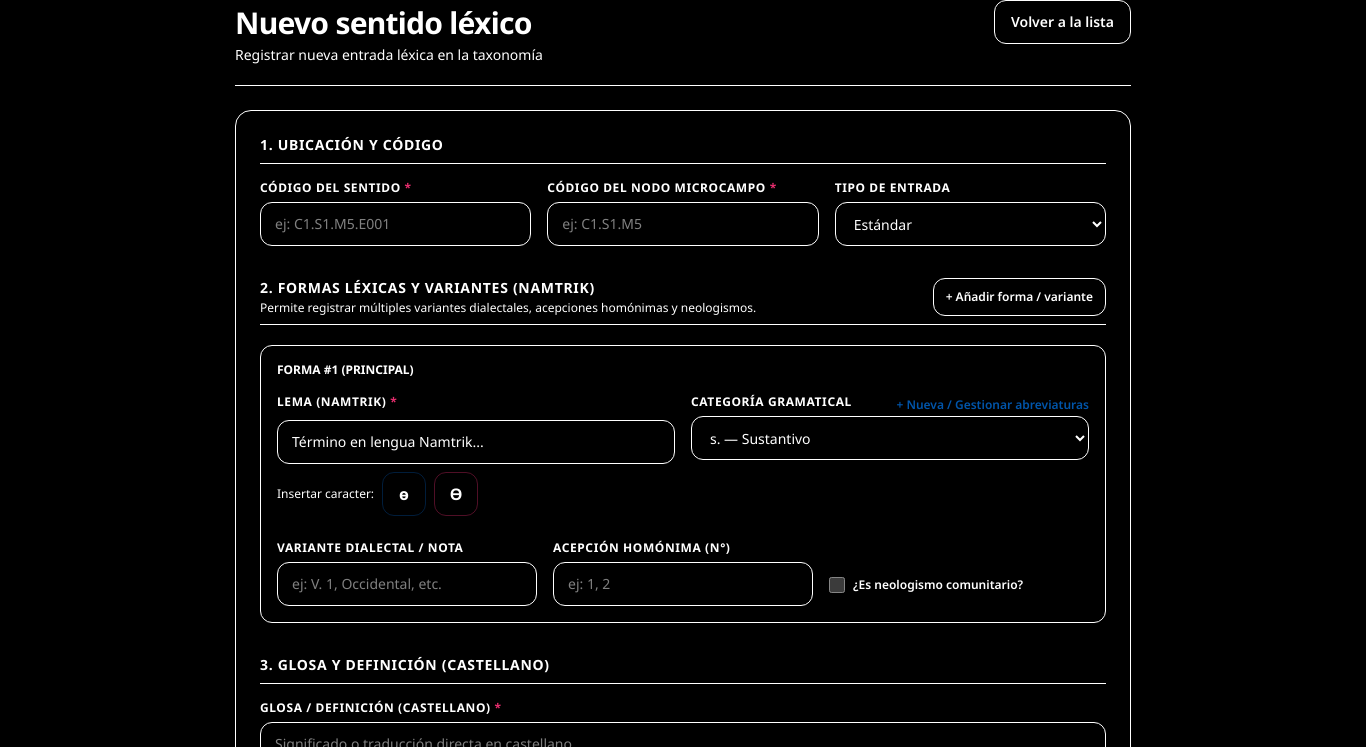
Test: SentidoEditorPage (T-044, R-007, R-008, R-010, R-022) › permite gestionar formas léxicas múltiples, neologismos y modal de abreviaturas
Añadir segunda forma léxica
Click the button "+ Añadir forma / variante" at point(1019, 297), box [933,278,1106,316]
(page scrolled)
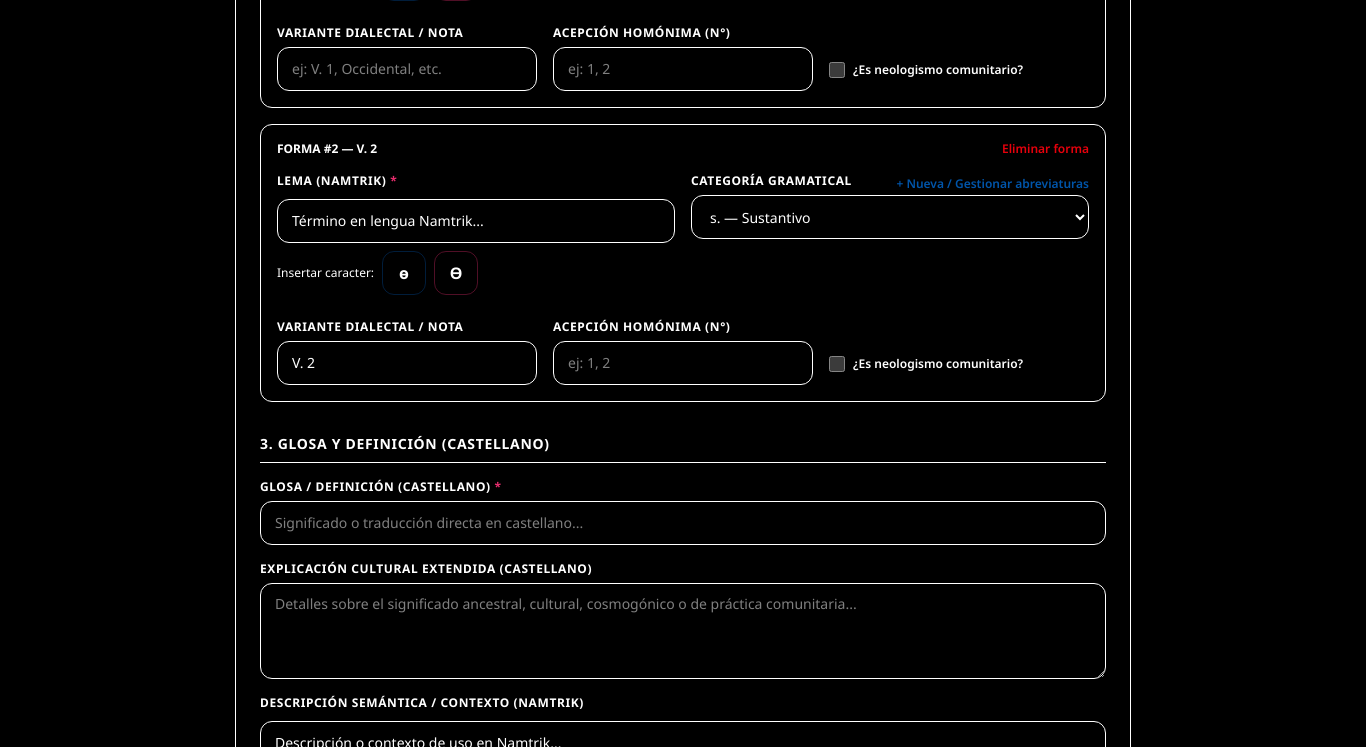
Now the text "Forma #2 — V. 2" is shown, box [277,141,377,157]
Editar variante dialectal de la segunda forma
Type "Variante Guambía" into the field with placeholder "ej: V. 1, Occidental, etc." below "— V. 2" at point(407, 363), box [277,341,537,385]
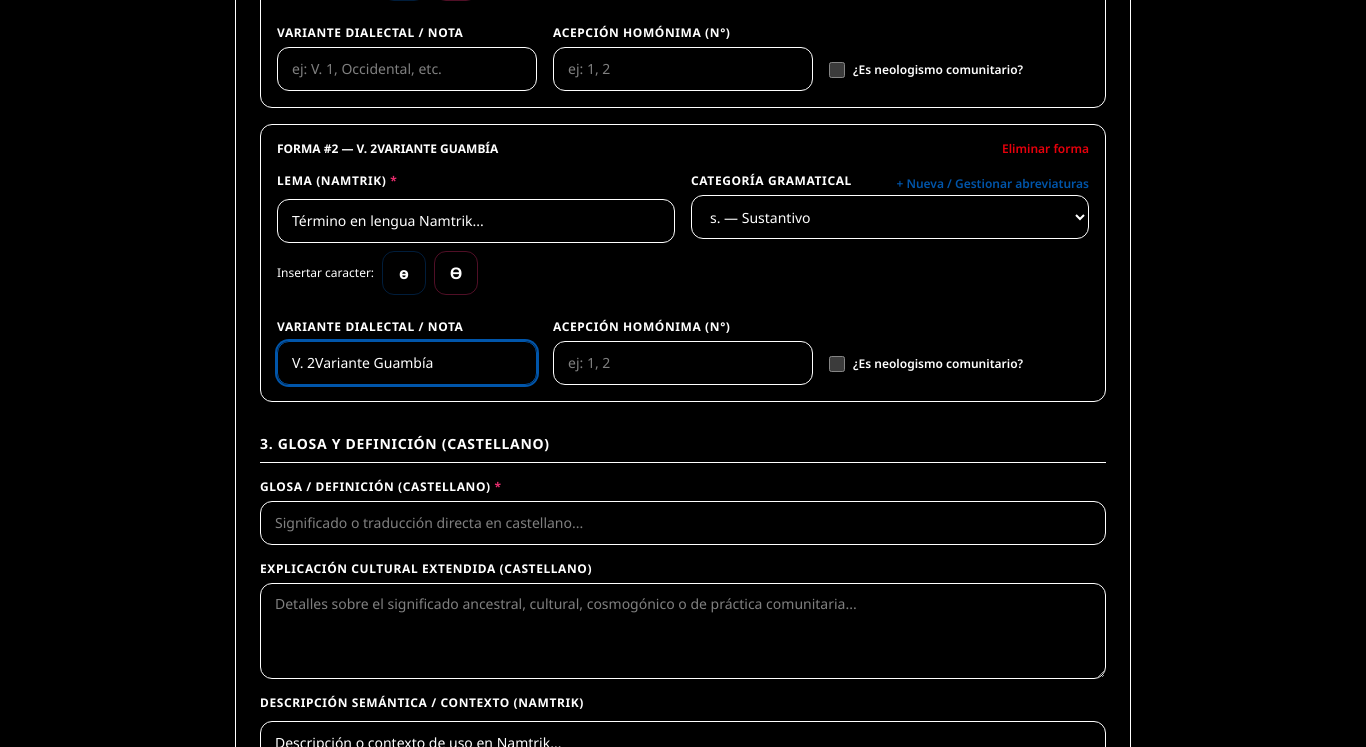
Click the 2nd checkbox labelled "¿Es neologismo comunitario?" at point(837, 364), box [829,356,845,372]
(page scrolled)
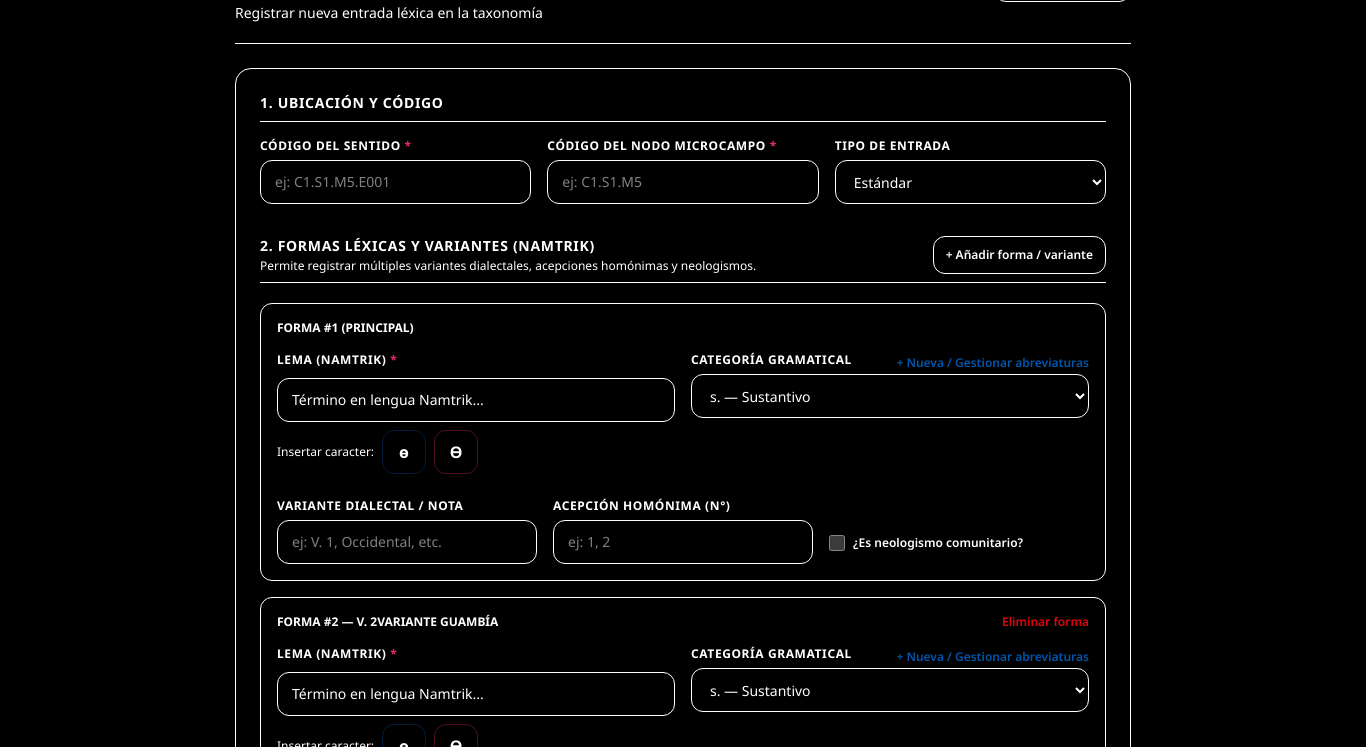
Click the 1st button "+ Nueva / Gestionar abreviaturas" at point(993, 363), box [896,355,1089,371]
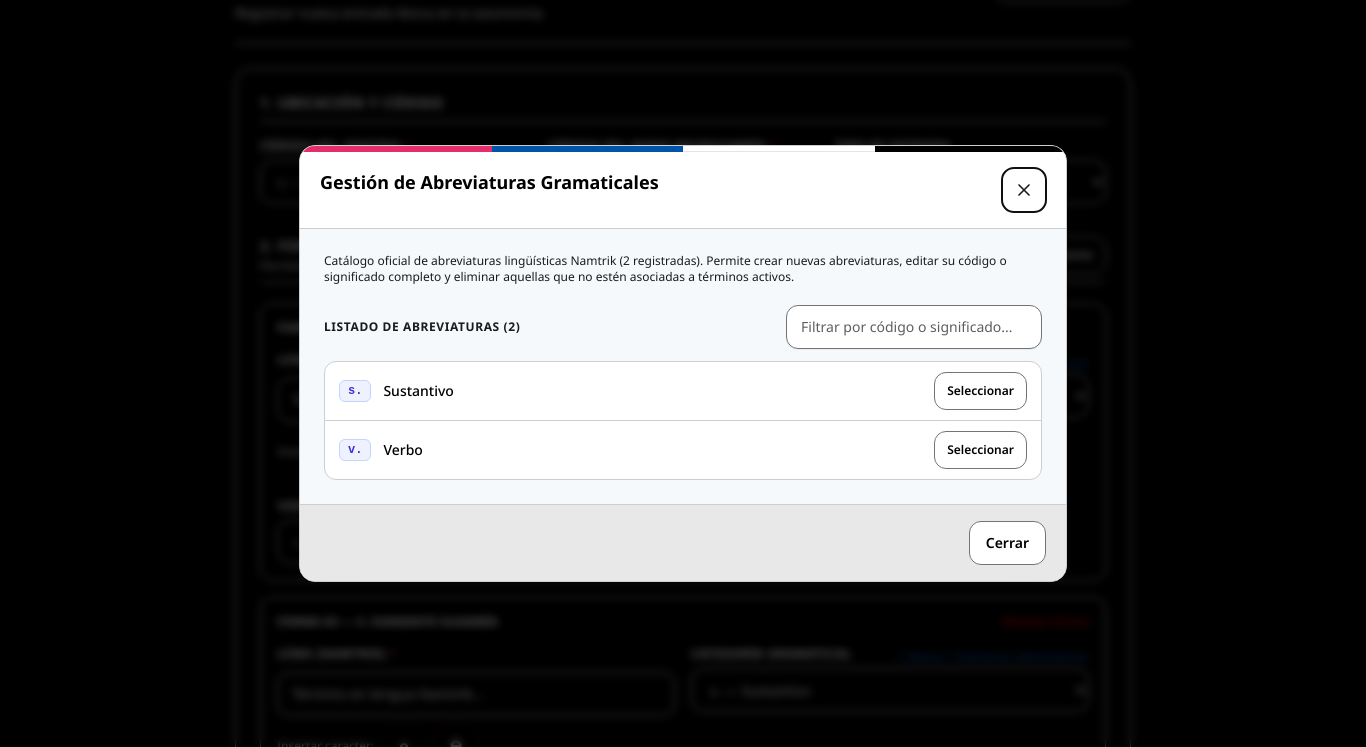
Now the dialog is shown, box [299,144,1067,582]
Cerrar modal
Click the button "Cerrar" at point(1007, 542), box [969,520,1046,564]
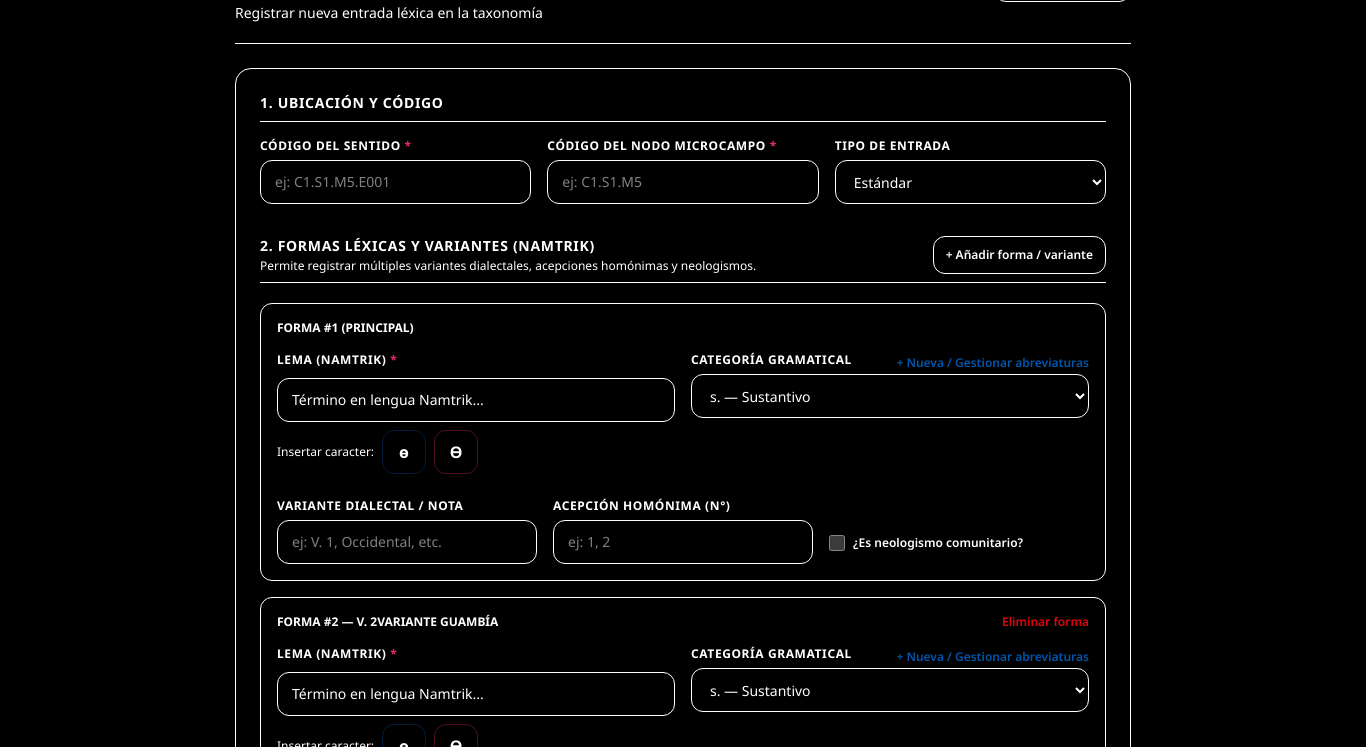
Eliminar la segunda forma léxica
Click the button "Eliminar forma" at point(1046, 622), box [1002,614,1089,630]
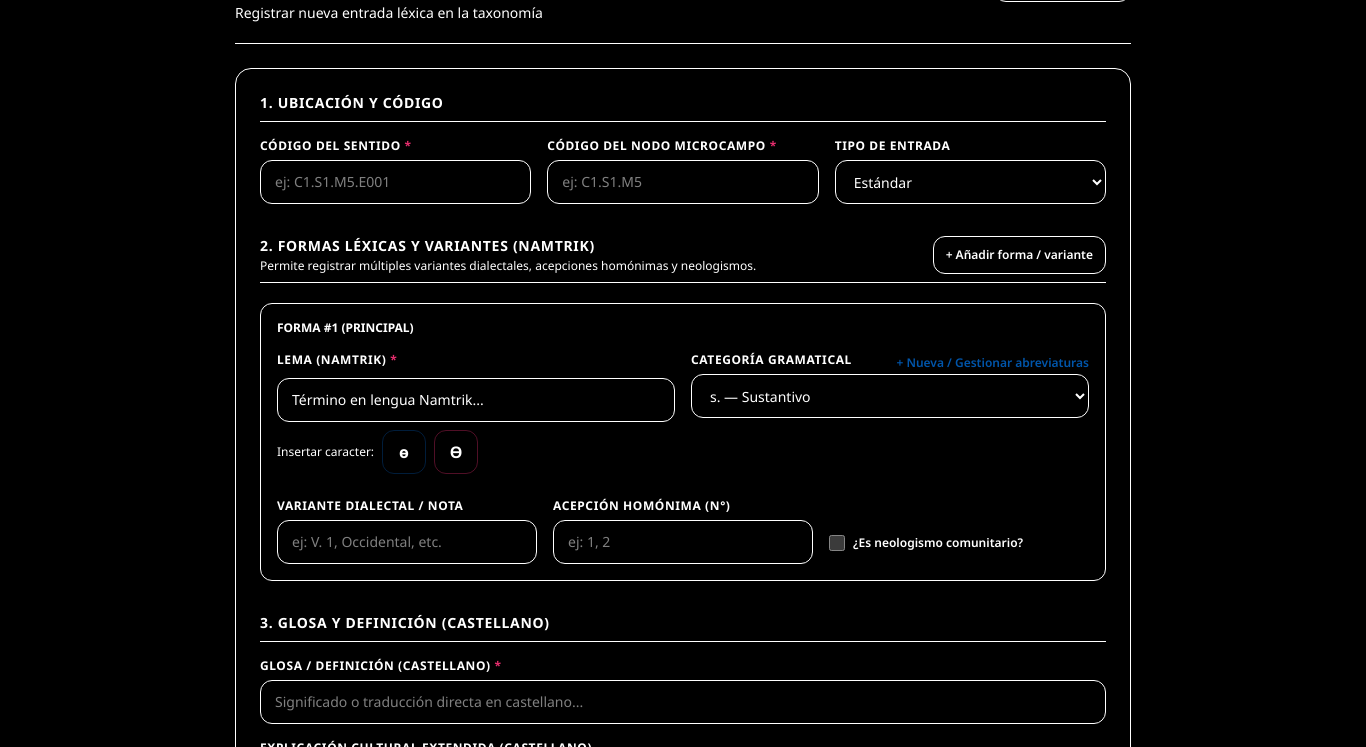
Now the text "Forma #2" is gone
